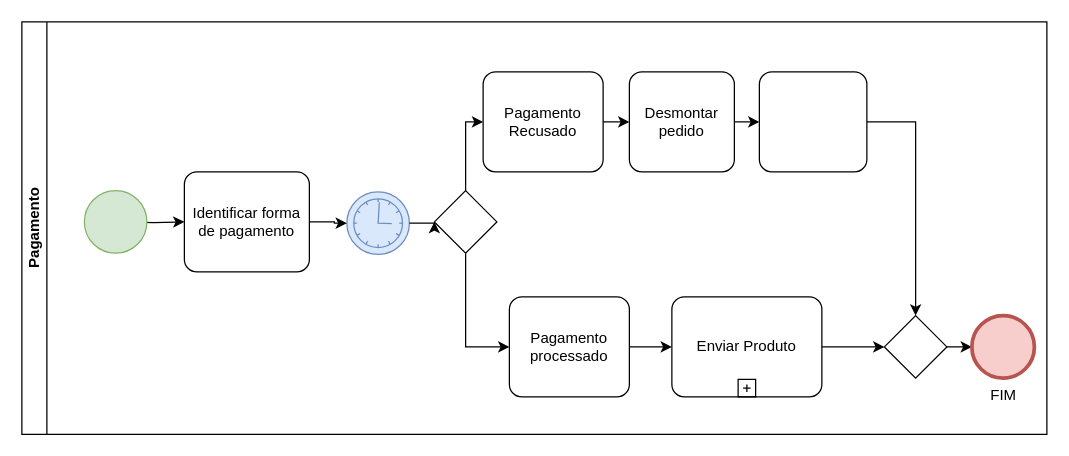
This 1069x456 diagram has some shape labels left out. The shapes that lost their labels are listed below. From the top down, each one's centre as x and y in pixels, then its label:
At [812,121]: "Notificar Cliente".
At [115,221]: "Pedido Confirmado".
At [377,222]: "24h".
